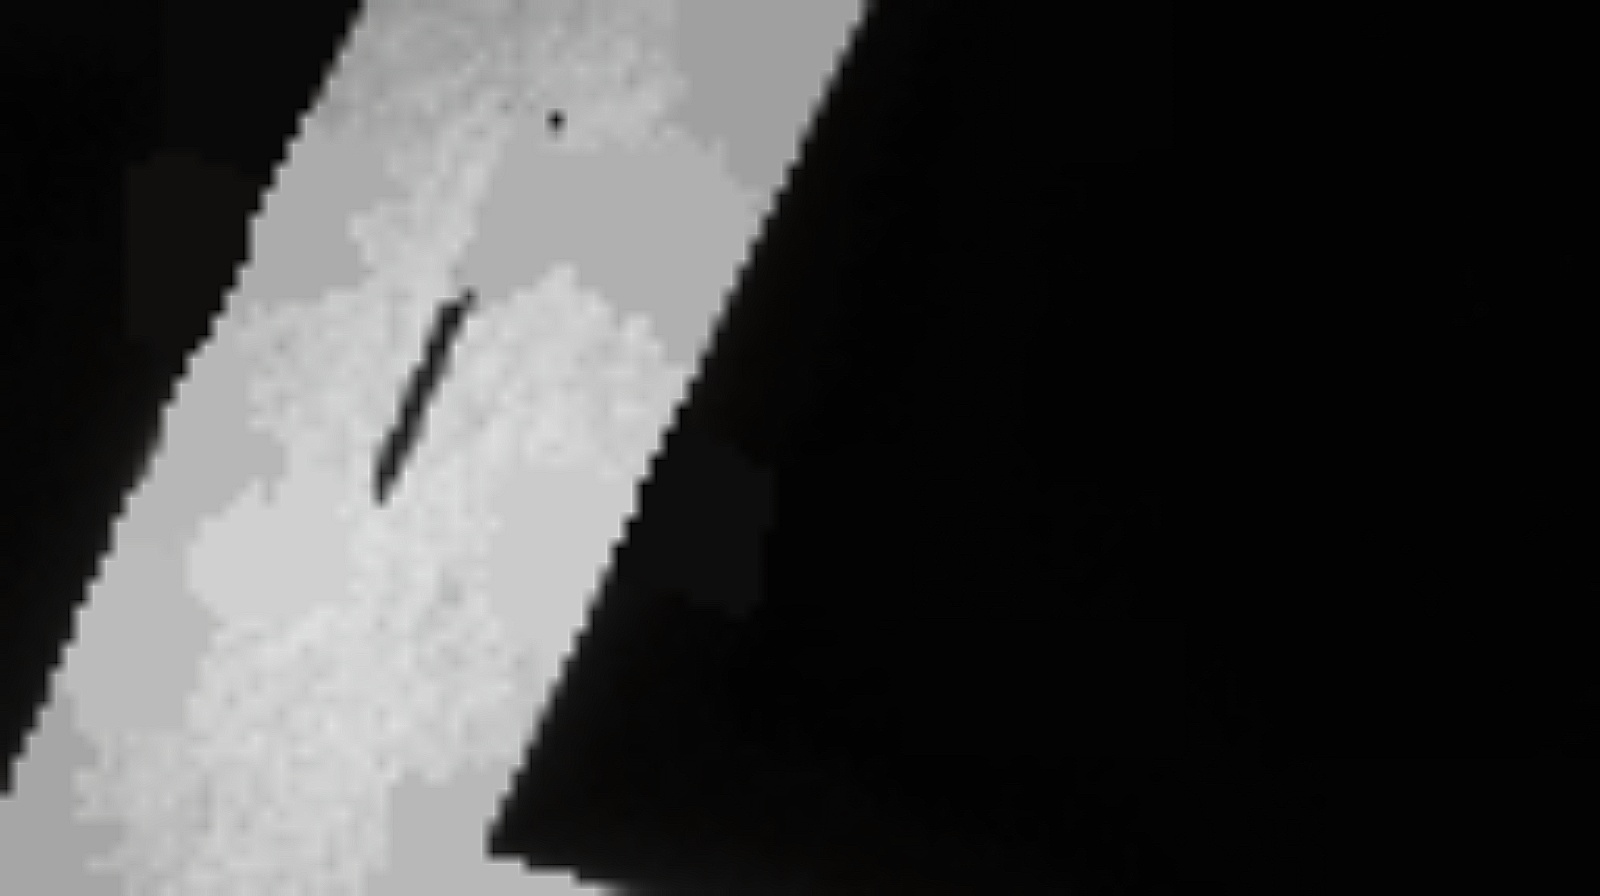S002: (259, 43, 677, 556)
